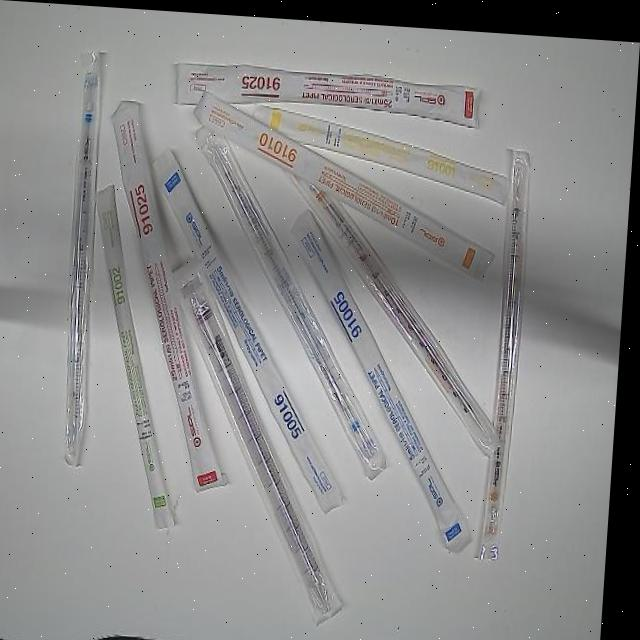Serelogical Pipet 1 mL: (222, 93, 520, 202)
Serelogical Pipet 10 mL: (273, 156, 524, 453), (186, 87, 506, 276), (484, 139, 536, 559)
Serelogical Pipet 2 mL: (80, 181, 203, 529)
Serelogical Pipet 25 mL: (93, 96, 259, 491), (173, 54, 487, 122)
Serelogical Pipet 5 mL: (135, 145, 372, 513), (179, 116, 412, 478), (274, 200, 498, 551), (58, 42, 113, 468)
Serelogical Pipet 50 mL: (158, 254, 373, 627)
